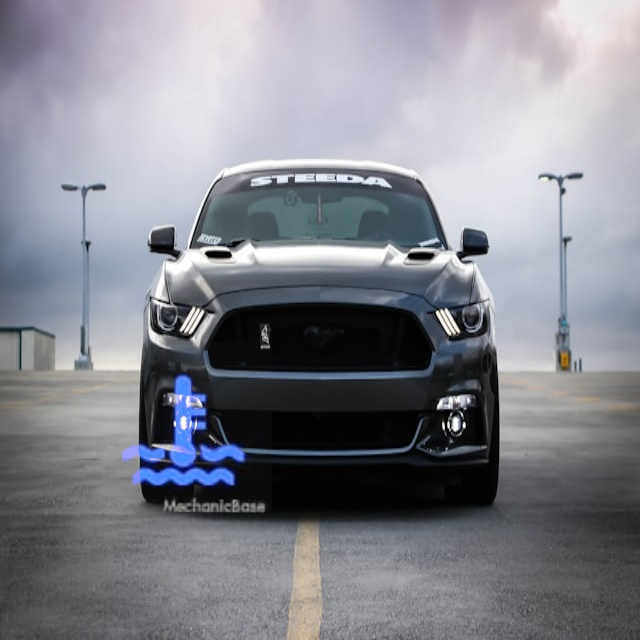symbol: (93, 342, 272, 521)
